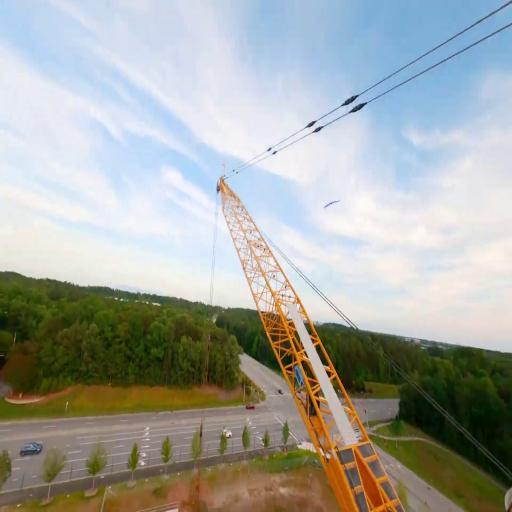uav: (322, 199, 341, 210)
